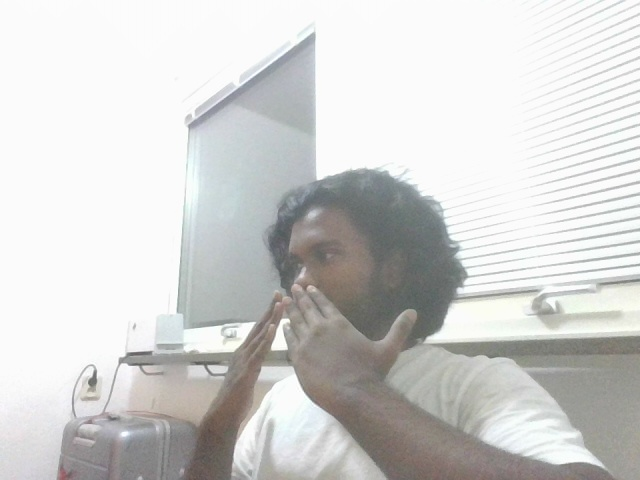Thanks: (204, 278, 417, 429)
